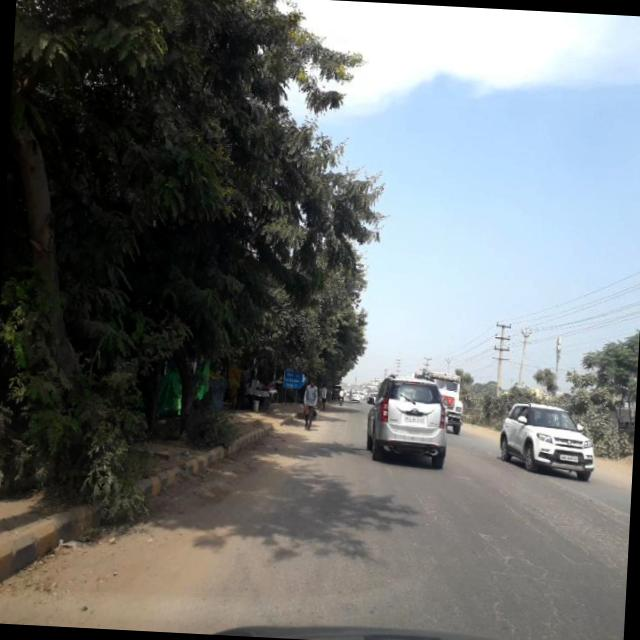crack: (467, 524, 559, 640), (529, 478, 631, 582)
pothole: (468, 480, 578, 566), (389, 469, 444, 538)
